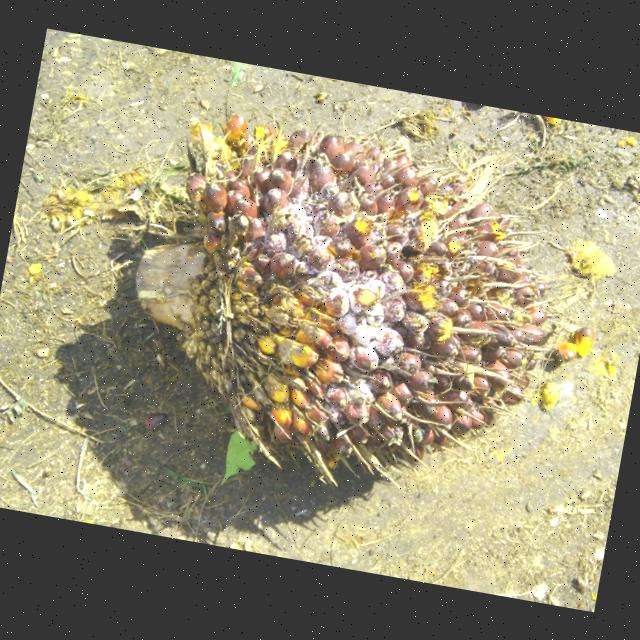Ripe: (128, 115, 591, 487)
